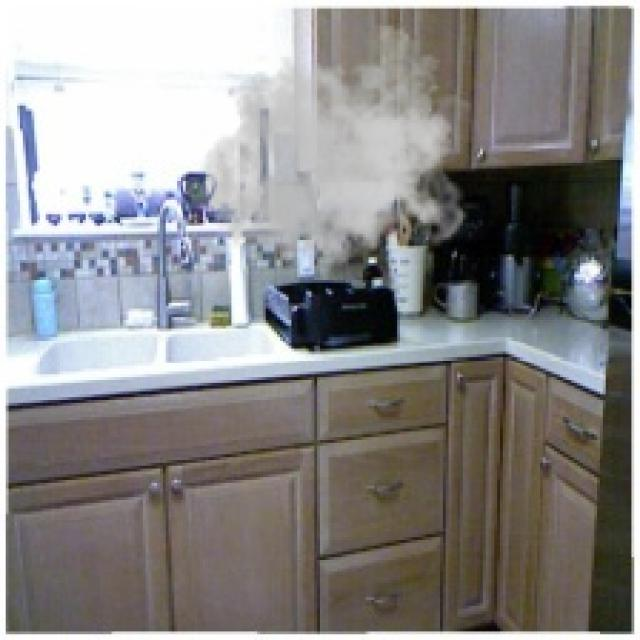smoke: (200, 26, 471, 291)
